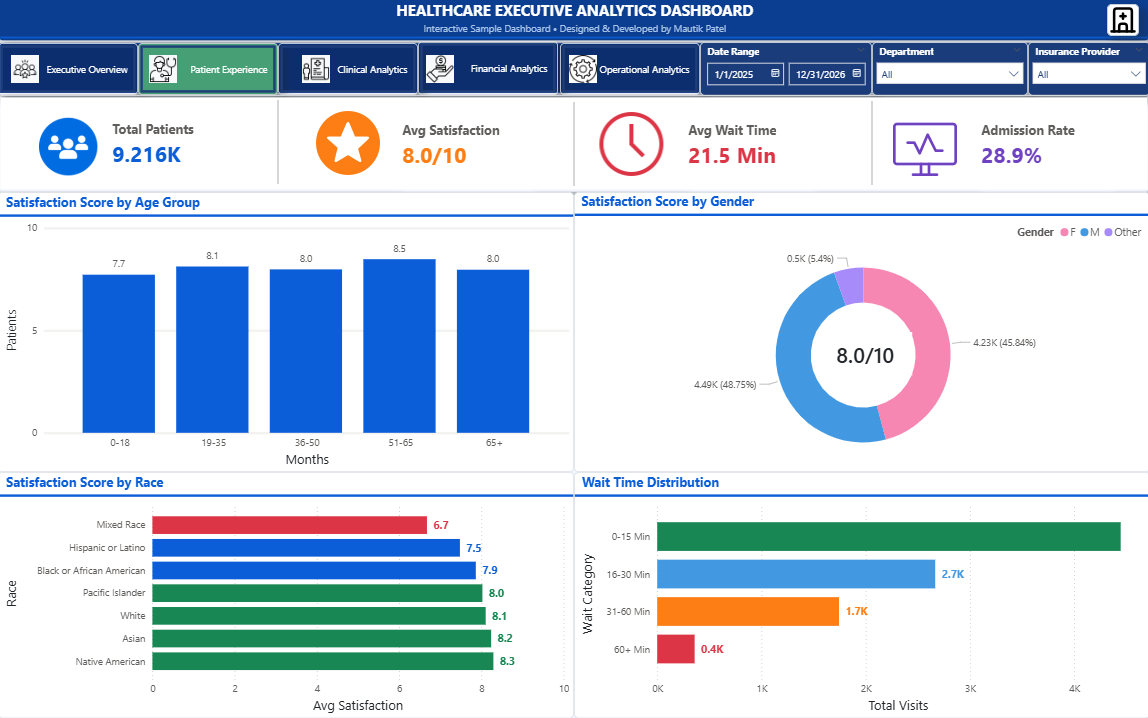

What the dashboard file says about the page in this screenshot:
{"tool":"powerbi","page":{"name":"Patient Experience","canvas":[1440,900],"ordinal":1},"visuals":[{"type":"shape","title":"HEALTHCARE EXECUTIVE ANALYTICS DASHBOARD","box":[0,0,1440,54.3],"z":0},{"type":"image","box":[1385.7,7.1,40,40],"z":1000},{"type":"shape","box":[0,53.8,1440,67.5],"z":2000},{"type":"actionButton","box":[0,56.2,175,65],"z":3000},{"type":"actionButton","box":[175,56.2,175,65],"z":4000},{"type":"actionButton","box":[350,56.2,175,65],"z":5000},{"type":"actionButton","box":[525,53.8,175,67.5],"z":6000},{"type":"actionButton","box":[702.5,56.2,175,65],"z":7000},{"type":"slicer","fields":{"Values":["DateTable.Date"]},"box":[877.5,55,215,67],"z":8000},{"type":"slicer","fields":{"Values":["HealthcareData.Department Referral"]},"box":[1092.5,55,195,67],"z":9000},{"type":"slicer","fields":{"Values":["HealthcareData.Insurance Provider"]},"box":[1287.5,55,152.5,67],"z":10000},{"type":"shape","box":[0,121.2,1440,121.2],"z":11000},{"type":"shape","box":[332.5,127.5,35,105],"z":12000},{"type":"shape","box":[716.2,130,7.5,105],"z":14000},{"type":"shape","box":[1075,128.8,35,105],"z":15000},{"type":"cardVisual","fields":{"Data":["Measures (3).Total Patients"]},"box":[138.8,142.5,135,78.8],"z":16000},{"type":"image","box":[51.2,148.8,72.5,73.8],"z":17000},{"type":"cardVisual","fields":{"Data":["Measures (3).KPI Card — Avg Satisfaction"]},"box":[501.2,130,161.2,105],"z":20000},{"type":"image","box":[397.5,141.2,80,80],"z":21000},{"type":"cardVisual","fields":{"Data":["Measures (3).Avg Wait Time"]},"box":[858.8,130,152.5,105],"z":22000},{"type":"image","box":[748.8,142.5,86.2,80],"z":23000},{"type":"image","box":[1118.8,142.5,80,80],"z":24000},{"type":"cardVisual","fields":{"Data":["Measures (3).KPI Card — Admission Rate"]},"box":[1225,130,161.2,105],"z":25000},{"type":"image","box":[713.8,71.2,35,35],"z":26000},{"type":"image","box":[16.2,71.2,35,35],"z":27000},{"type":"image","box":[188.8,71.2,35,35],"z":28000},{"type":"image","box":[380,71.2,35,35],"z":29000},{"type":"image","box":[535,71.2,35,35],"z":30000},{"type":"clusteredColumnChart","title":"Satisfaction Score by Age Group","fields":{"Category":["HealthcareData.Age Group"],"Y":["Measures (3).Avg Satisfaction"]},"box":[0,242.5,720,350],"z":31000},{"type":"donutChart","title":"Satisfaction Score by Gender","fields":{"Y":["Measures (3).Total Patients"],"Category":["HealthcareData.Gender"]},"box":[720,242.5,720,350],"z":32000},{"type":"clusteredBarChart","title":"Satisfaction Score by Race","fields":{"Category":["HealthcareData.Race"],"Y":["Measures (3).Avg Satisfaction"]},"box":[0,592.5,720,307.5],"z":33000},{"type":"clusteredBarChart","title":"Wait Time Distribution","fields":{"Category":["HealthcareData.Wait Category"],"Y":["Measures (3).Total Visits"]},"box":[720,592.5,720,307.5],"z":34000},{"type":"cardVisual","fields":{"Data":["Measures (3).KPI Card — Avg Satisfaction"]},"box":[1028.8,417.5,113.8,53.8],"z":36000}]}

Visuals, with their boxes in screenshot pixels (x1, y1, x2, y2), scaled from the page's 1440x900 canvas onto the 1148x718 screenshot:
"HEALTHCARE EXECUTIVE ANALYTICS DASHBOARD" shape: box(0, 0, 1147, 43)
image: box(1105, 6, 1137, 38)
shape: box(0, 43, 1147, 97)
actionButton: box(0, 45, 140, 97)
actionButton: box(140, 45, 279, 97)
actionButton: box(279, 45, 419, 97)
actionButton: box(419, 43, 558, 97)
actionButton: box(560, 45, 700, 97)
slicer - DateTable.Date: box(700, 44, 871, 97)
slicer - HealthcareData.Department Referral: box(871, 44, 1026, 97)
slicer - HealthcareData.Insurance Provider: box(1026, 44, 1147, 97)
shape: box(0, 97, 1147, 193)
shape: box(265, 102, 293, 185)
shape: box(571, 104, 577, 187)
shape: box(857, 103, 885, 187)
cardVisual - Measures (3).Total Patients: box(111, 114, 218, 177)
image: box(41, 119, 99, 178)
cardVisual - Measures (3).KPI Card — Avg Satisfaction: box(400, 104, 528, 187)
image: box(317, 113, 381, 176)
cardVisual - Measures (3).Avg Wait Time: box(685, 104, 806, 187)
image: box(597, 114, 666, 178)
image: box(892, 114, 956, 178)
cardVisual - Measures (3).KPI Card — Admission Rate: box(977, 104, 1105, 187)
image: box(569, 57, 597, 85)
image: box(13, 57, 41, 85)
image: box(151, 57, 178, 85)
image: box(303, 57, 331, 85)
image: box(427, 57, 454, 85)
"Satisfaction Score by Age Group" clusteredColumnChart: box(0, 193, 574, 473)
"Satisfaction Score by Gender" donutChart: box(574, 193, 1147, 473)
"Satisfaction Score by Race" clusteredBarChart: box(0, 473, 574, 717)
"Wait Time Distribution" clusteredBarChart: box(574, 473, 1147, 717)
cardVisual - Measures (3).KPI Card — Avg Satisfaction: box(820, 333, 911, 376)
